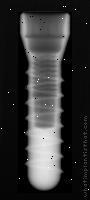Blue Sky Bio: (18, 12, 72, 193)
